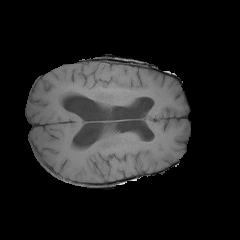glioma: (64, 64, 153, 98)
